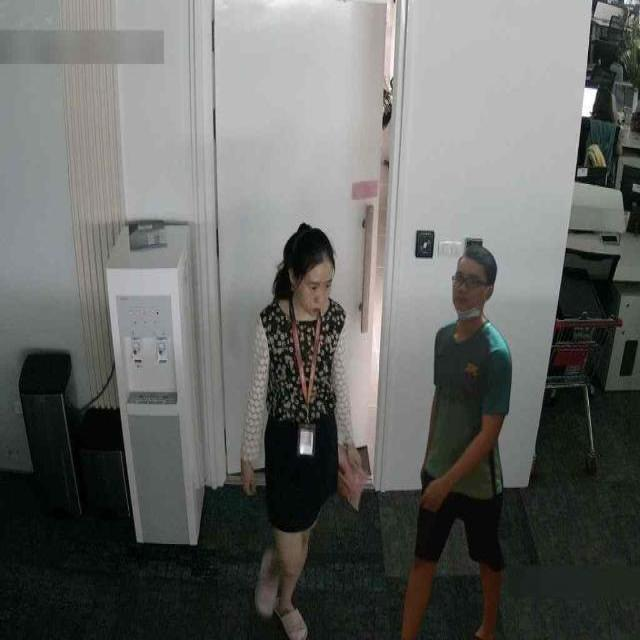bare_hand: (417, 464, 466, 531), (231, 452, 273, 504)
